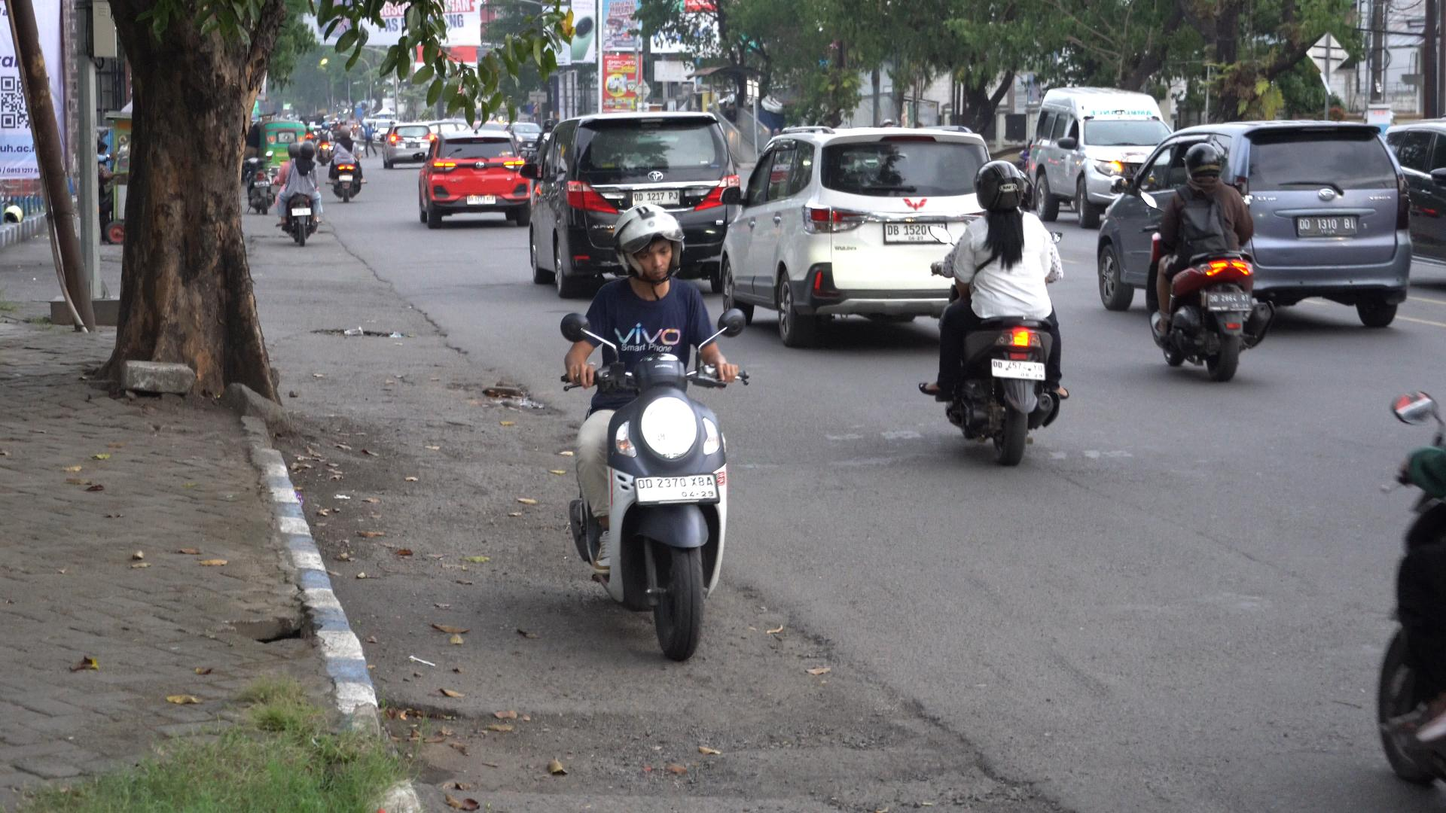number-plate: (633, 472, 719, 504)
